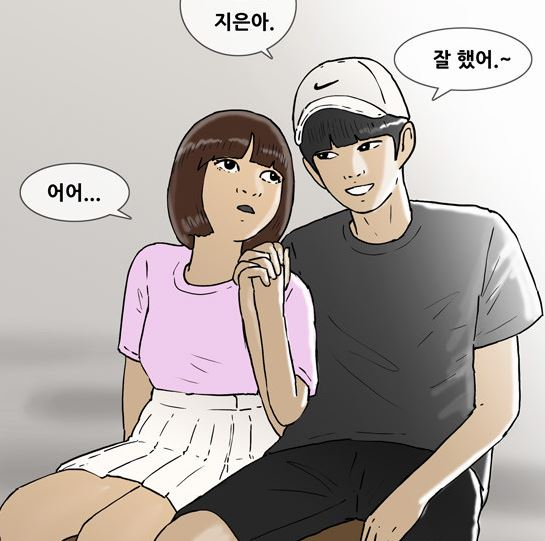hat: (291, 54, 412, 141)
